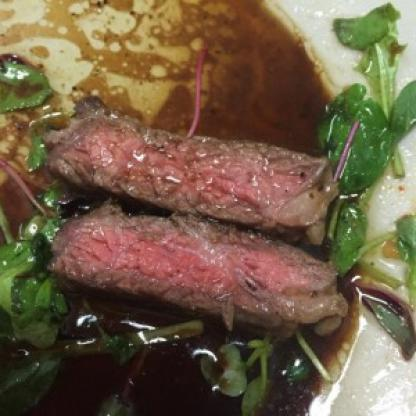Carne: (52, 106, 322, 239), (59, 199, 336, 326)
